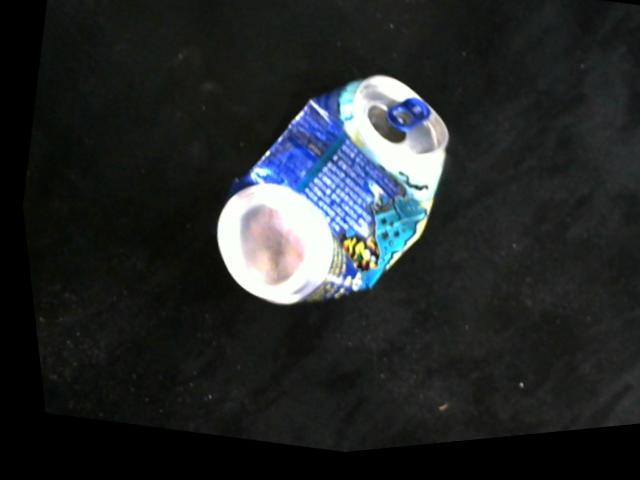can: (208, 78, 439, 313)
